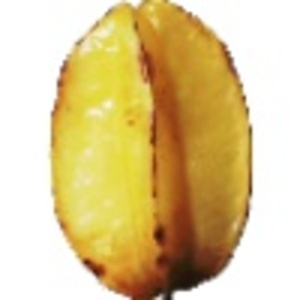carambola: (47, 1, 255, 300)
